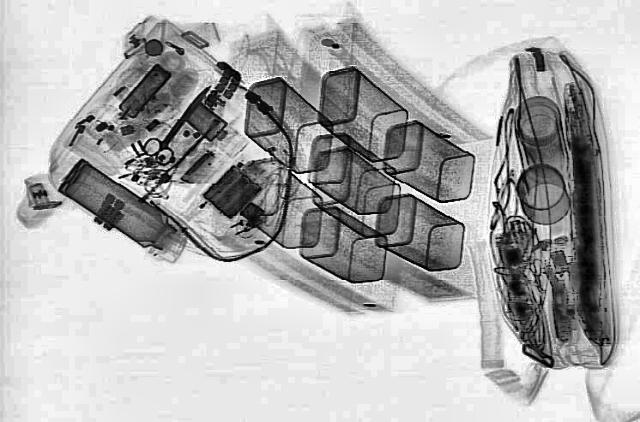Scissors: (132, 80, 232, 166)
